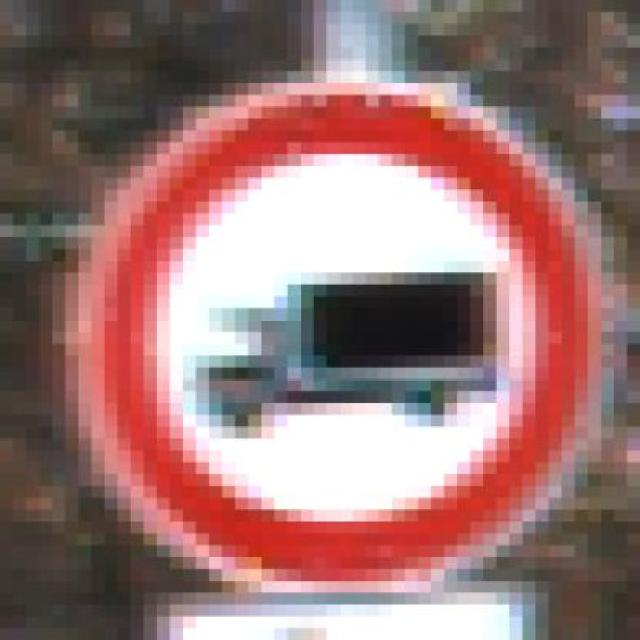Truck traffic is prohibited: (52, 71, 600, 617)
